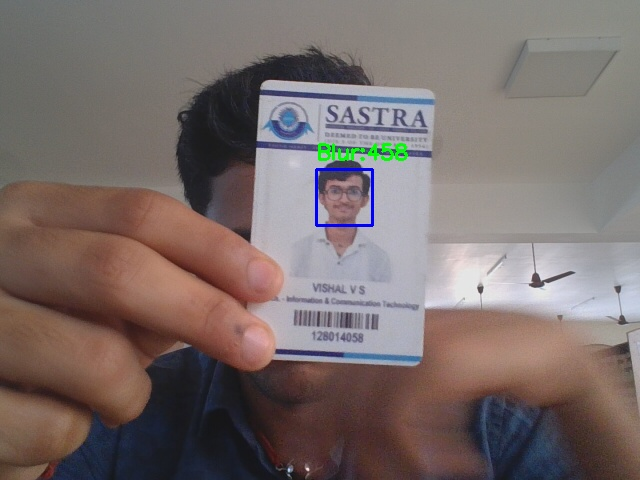fake: (316, 169, 372, 225)
